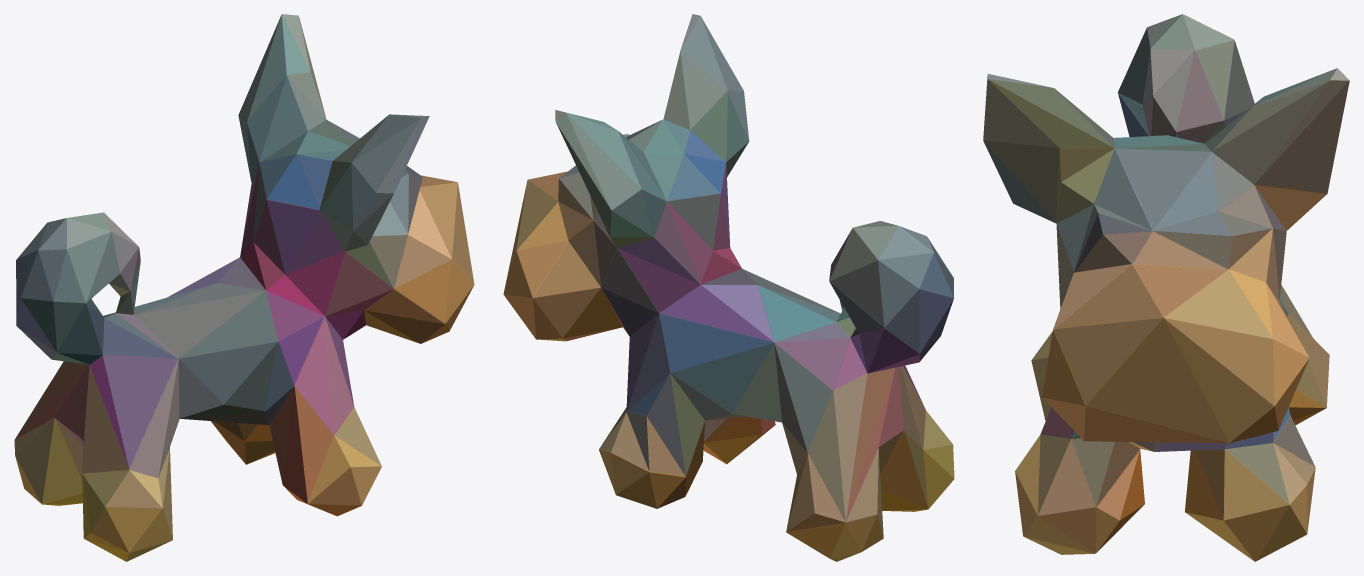
Rendered from dog-2.glb.
3 views of the same model, side by side, from view 1: azimuth 30°, elevation 25°; view 2: azimuth 150°, elevation 25°; view 3: azimuth 270°, elevation 25° (orthographic). The views are drawn at different scales.
Bounding box in the file's own units: 1.75 × 1.59 × 1.01.
1 material, 1 textured.
